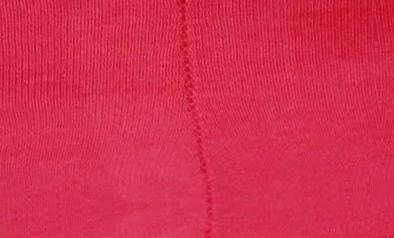slub: (172, 1, 220, 237)
